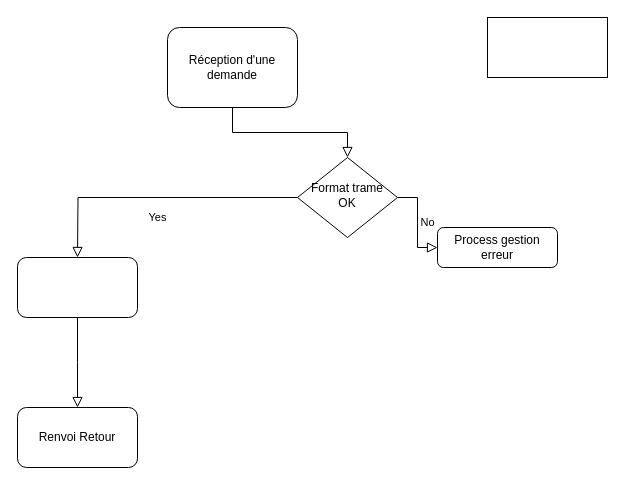
Some shapes in this 625 by 485 pixel diagram are drawn without their labels. The shapes that lost their labels are listed below. From the top down, each one's centre as x and y in pixels, then its label:
At (x=547, y=47): "API".
At (x=77, y=287): "Process Traitement demande".
